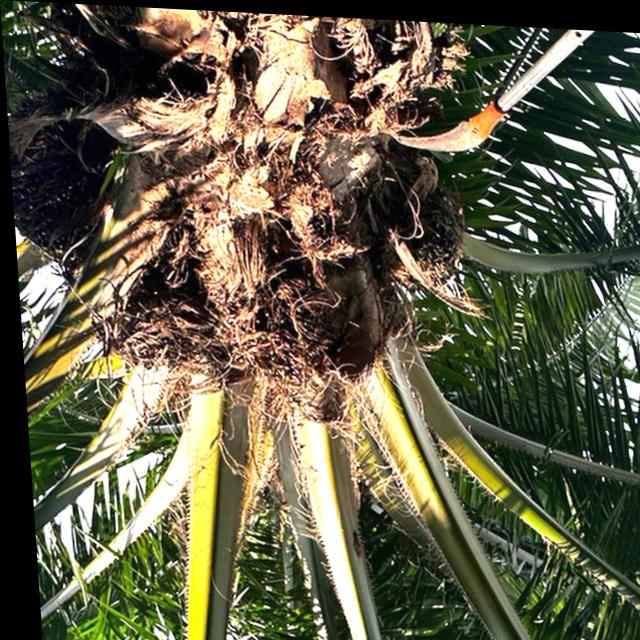ripe: (393, 172, 474, 283)
